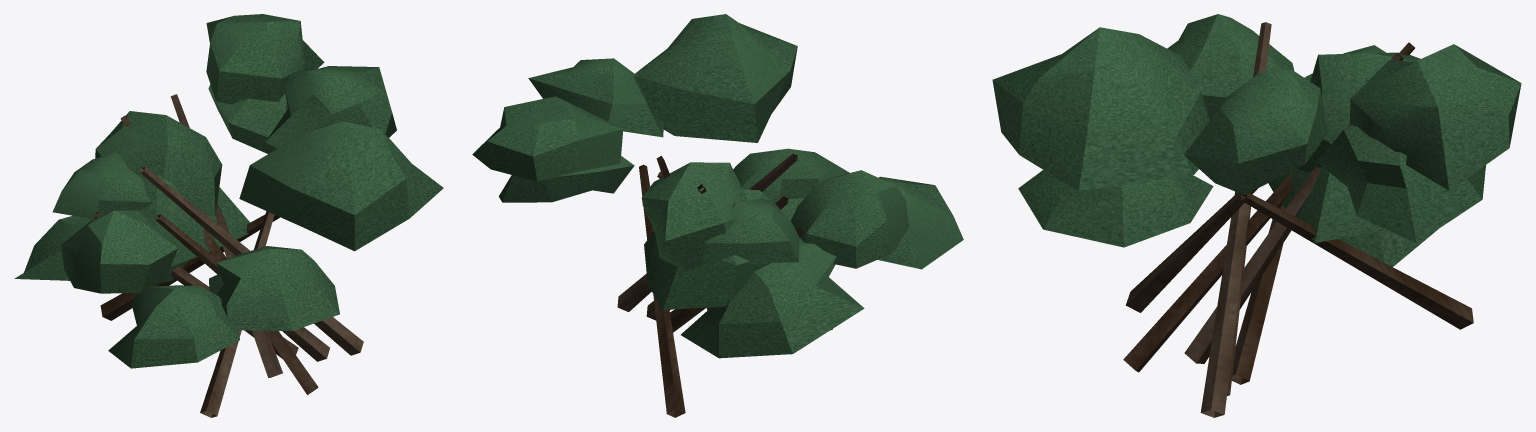
Rendered from thicket_2.glb.
3 renders of one model, left to right at view 1: azimuth 30°, elevation 25°; view 2: azimuth 150°, elevation 25°; view 3: azimuth 270°, elevation 25°, orthographic. The views are drawn at different scales.
Parts seen in each view (by area): view 1: thicket_2; view 2: thicket_2; view 3: thicket_2.
Part boxes in pixels (bbox=[...]): thicket_2: bbox=[14, 14, 443, 417]; thicket_2: bbox=[472, 14, 963, 417]; thicket_2: bbox=[992, 14, 1521, 417].
Bounding box in the file's own units: 2.76 × 2.1 × 2.81.
Materials: 2 (2 with a texture image).
